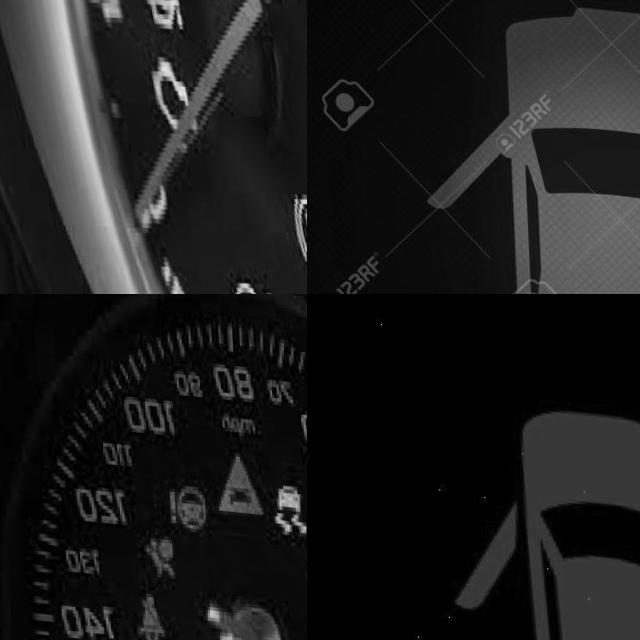Electronic Power Steering: (156, 471, 208, 533), (222, 268, 282, 294)
Seat Belt: (125, 586, 166, 640)
